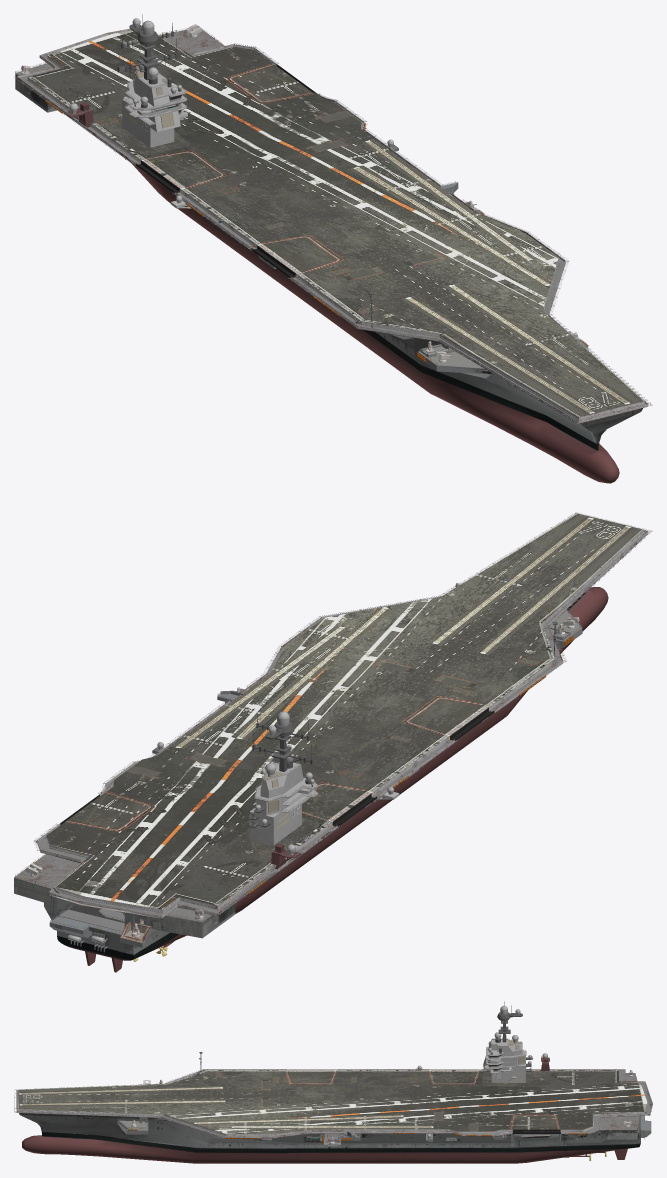
Rendered from ship_carrier.glb.
3 renders of one model, top to bottom at view 1: azimuth 30°, elevation 25°; view 2: azimuth 150°, elevation 25°; view 3: azimuth 270°, elevation 25°, orthographic. The views are drawn at different scales.
Bounding box in the file's own units: 25.77 × 21.01 × 96.
11 materials, 10 textured.
